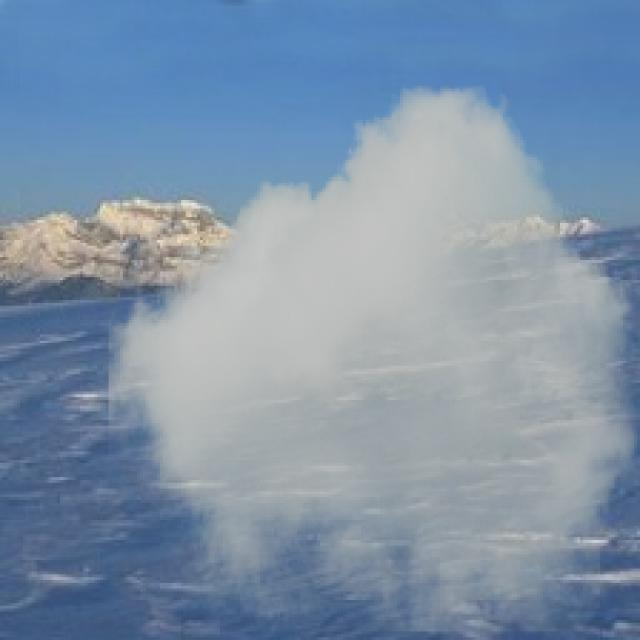Smoke: (108, 86, 638, 634)
